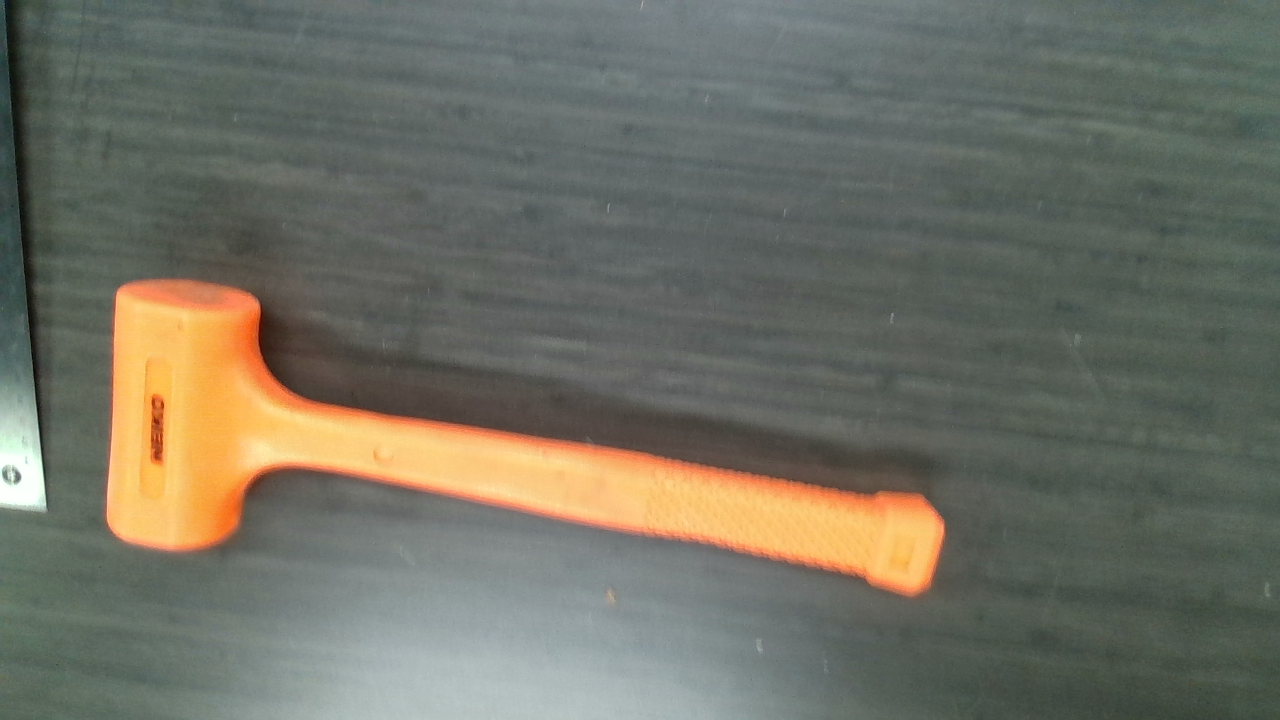Orange Hammer: (114, 278, 945, 595)
